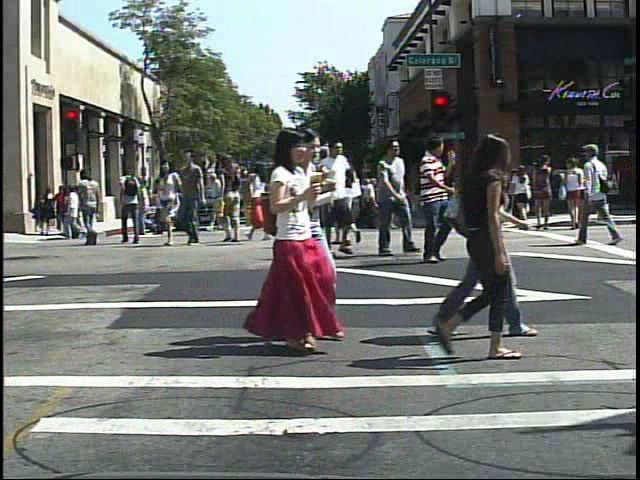person: (439, 129, 540, 365), (258, 126, 346, 355), (437, 128, 519, 341), (415, 131, 472, 265), (572, 136, 623, 249), (367, 135, 411, 262), (296, 132, 334, 272), (322, 137, 356, 257), (316, 140, 352, 248), (177, 148, 212, 249), (152, 156, 188, 249), (213, 150, 248, 243), (337, 145, 366, 249), (246, 152, 274, 245), (74, 165, 105, 246), (116, 163, 146, 245), (510, 160, 538, 234), (309, 162, 330, 231), (55, 183, 75, 234)
